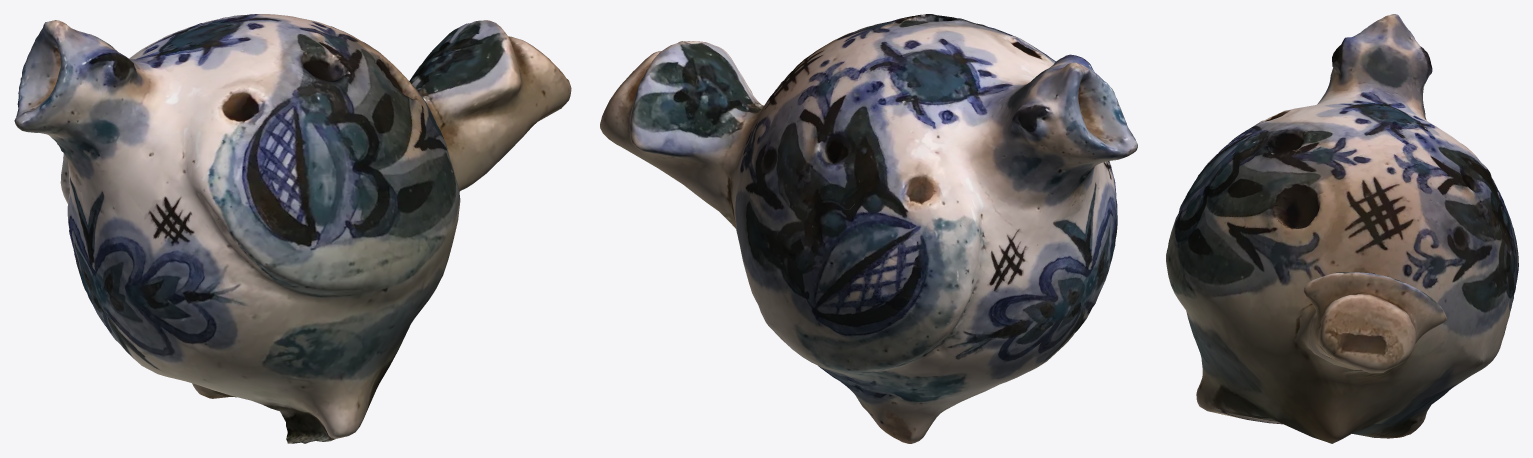
File: bird.glb
3 views of the same model, side by side, from view 1: azimuth 30°, elevation 25°; view 2: azimuth 150°, elevation 25°; view 3: azimuth 270°, elevation 25° (orthographic). The views are drawn at different scales.
Parts seen in each view (by area): view 1: Object_2; view 2: Object_2; view 3: Object_2.
Part boxes in pixels (x1,y1,x2,y2): Object_2: (14, 14, 571, 443); Object_2: (600, 14, 1137, 443); Object_2: (1166, 14, 1518, 443).
Bounding box in the file's own units: 4.4 × 3.29 × 2.97.
Materials: 1 (1 with a texture image).
